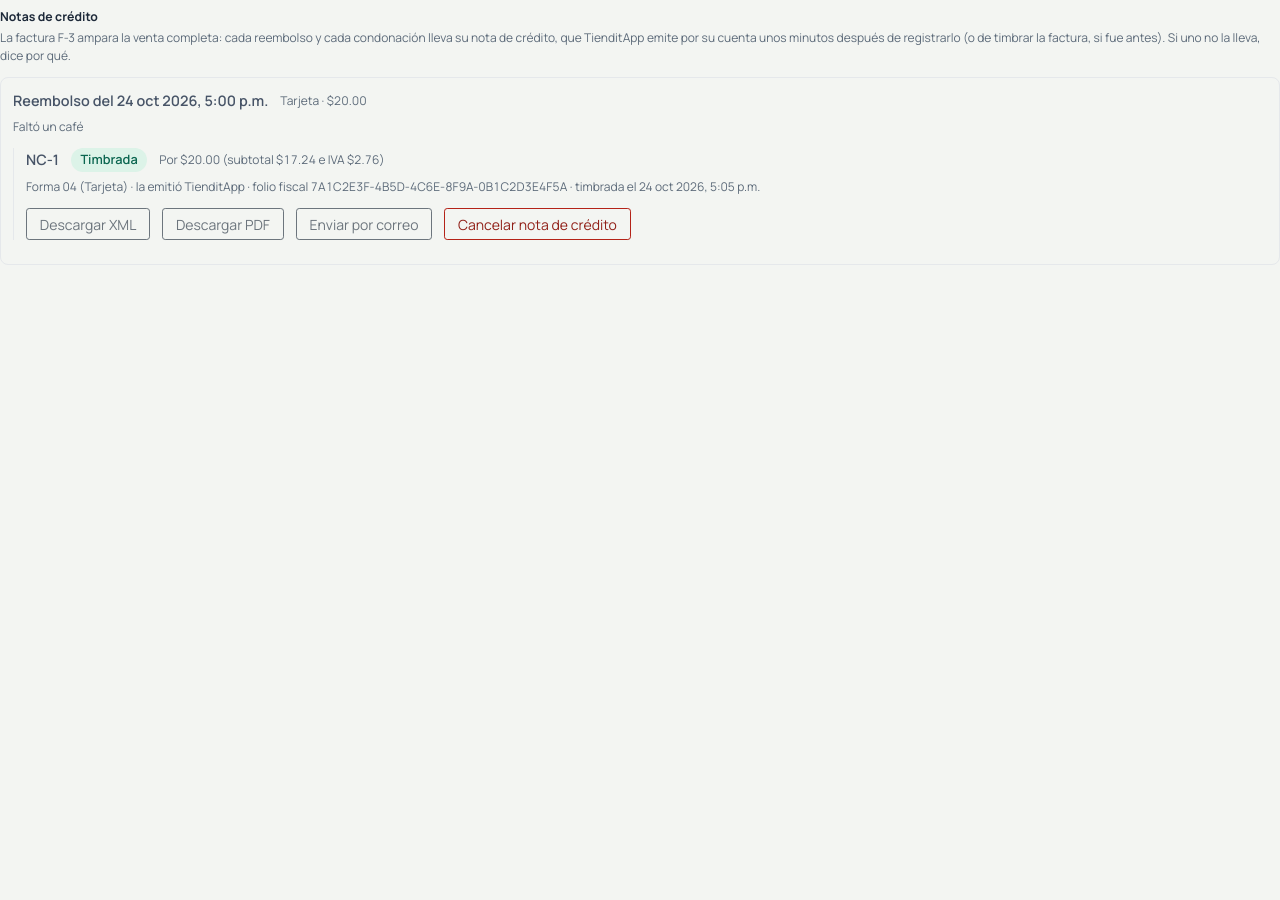
Test: CreditNoteList › lets owners and admins cancel the credit note of a refund, only because it has errors
Click the button with aria-label "Cancelar nota de crédito NC-1": (538, 224) x1=444 y1=208 x2=631 y2=240
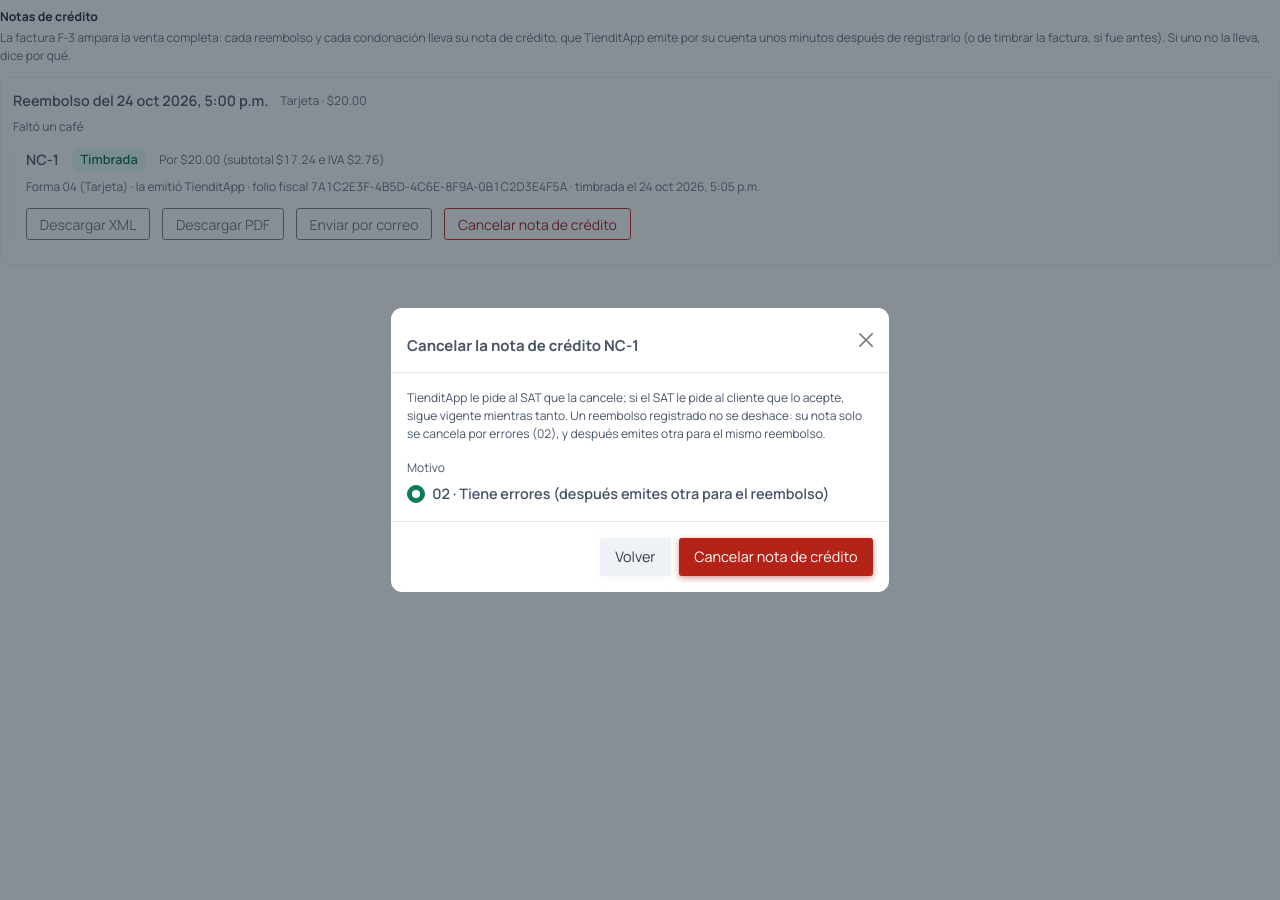
Expected: the dialog "Cancelar la nota de crédito NC-1" shows "sigue vigente mientras tanto. Un reembolso registrado no se deshace: su nota solo se cancela por errores (02)", x1=390 y1=307 x2=890 y2=593
Expected: the radio button labelled "02 · Tiene errores (después emites otra para el reembolso)" is checked, x1=407 y1=485 x2=425 y2=503
Expected: the number of radio buttons is 1, x1=407 y1=485 x2=425 y2=503
Click the button "Cancelar nota de crédito": (776, 557) x1=679 y1=538 x2=873 y2=576
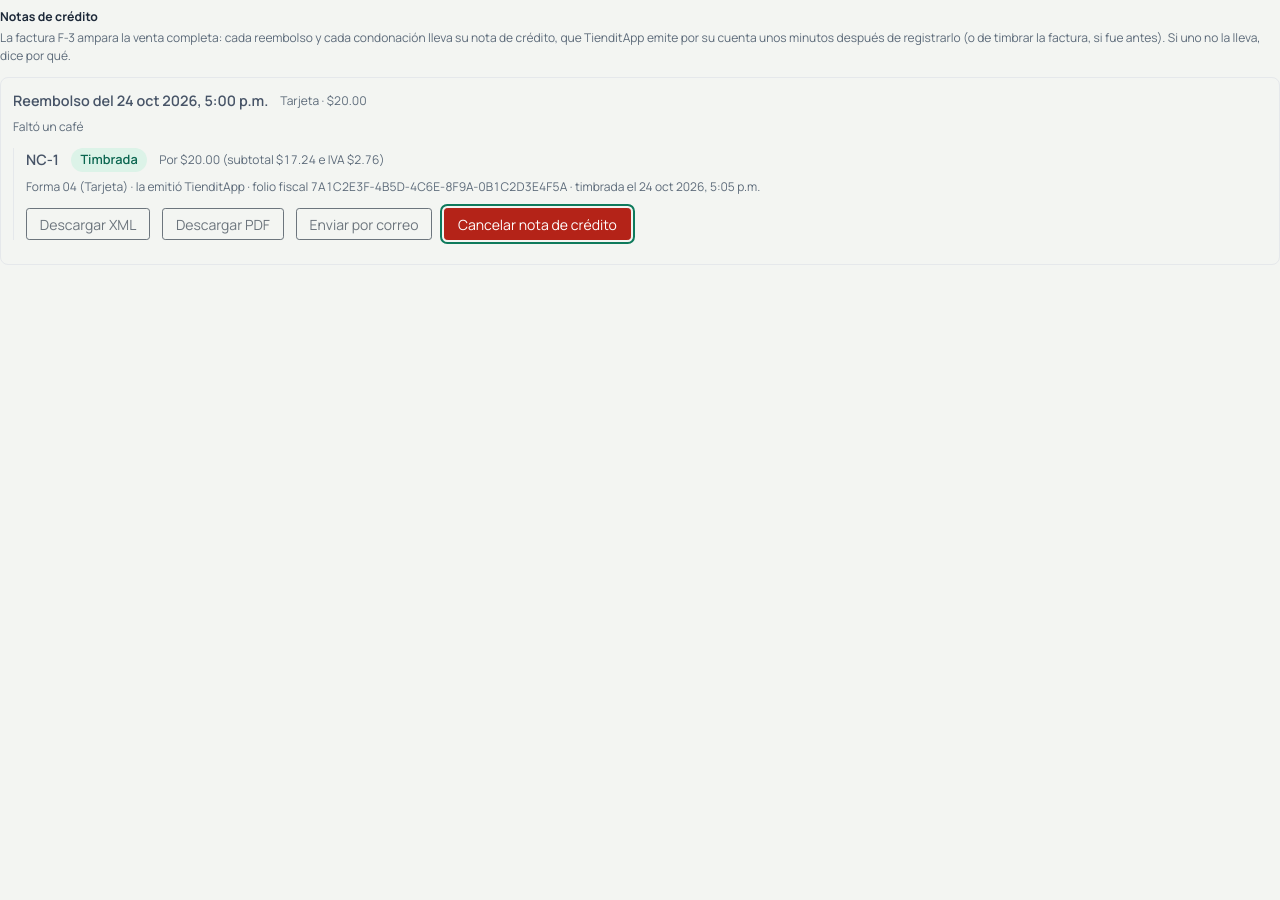
Expected: the dialog is gone
